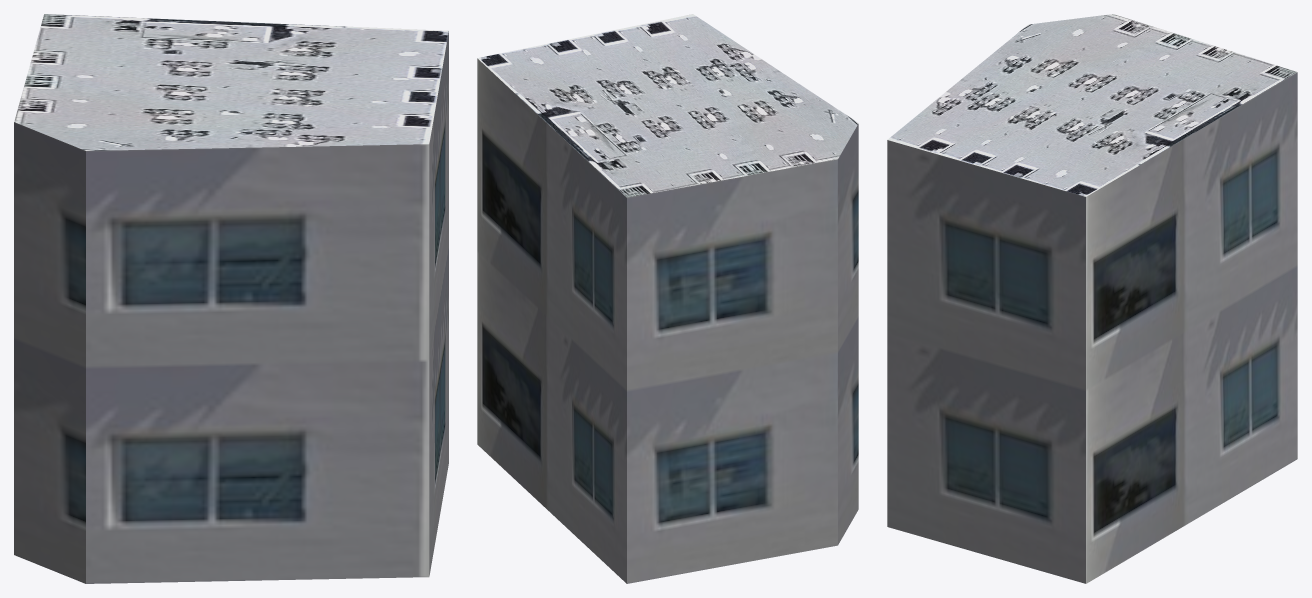
Rendered from ResTex__5030.fbx.
The picture shows the model from 3 angles, left to right: view 1: azimuth 30°, elevation 25°; view 2: azimuth 150°, elevation 25°; view 3: azimuth 270°, elevation 25°; orthographic projection. The views are drawn at different scales.
Parts seen in each view (by area): view 1: CityEngineMaterial_10_m, CityEngineMaterial_8_m; view 2: CityEngineMaterial_10_m, CityEngineMaterial_8_m; view 3: CityEngineMaterial_10_m, CityEngineMaterial_8_m.
Part boxes in pixels (x1,y1,x2,y2): CityEngineMaterial_10_m: (14, 31, 448, 583); CityEngineMaterial_8_m: (14, 14, 448, 150); CityEngineMaterial_10_m: (477, 58, 858, 583); CityEngineMaterial_8_m: (477, 14, 858, 197); CityEngineMaterial_10_m: (887, 72, 1297, 583); CityEngineMaterial_8_m: (887, 14, 1297, 196).
Size of the model in its own units: 6.08 by 6 by 5.77.
Materials: 2 (2 with a texture image).
